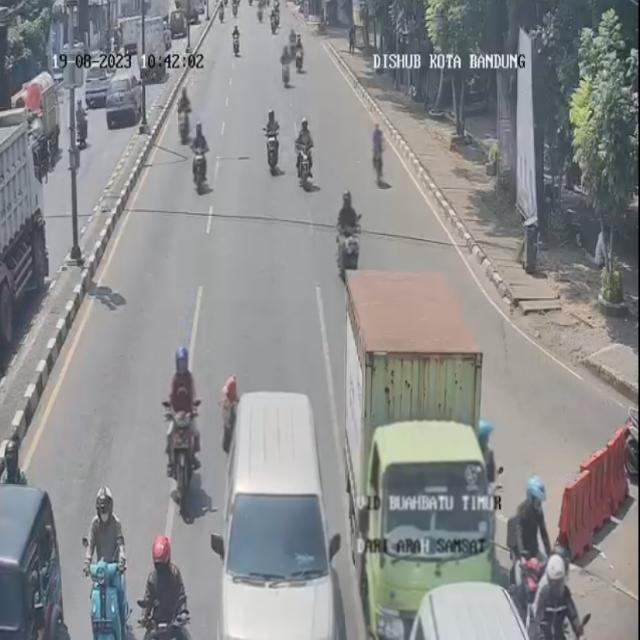cars: (355, 417, 499, 640), (220, 389, 345, 640), (0, 485, 63, 639), (403, 582, 544, 640)
motorcycle: (155, 344, 207, 506), (85, 482, 129, 639), (138, 530, 200, 640), (510, 477, 556, 616), (30, 487, 66, 638), (532, 553, 586, 640), (334, 188, 366, 278), (188, 118, 210, 194), (295, 115, 317, 190), (262, 106, 283, 176), (367, 114, 386, 189), (0, 438, 29, 486), (276, 34, 294, 92), (178, 87, 196, 145), (282, 27, 296, 82), (230, 22, 246, 62), (267, 7, 280, 40), (296, 42, 307, 78), (269, 0, 282, 22), (256, 1, 266, 28)
